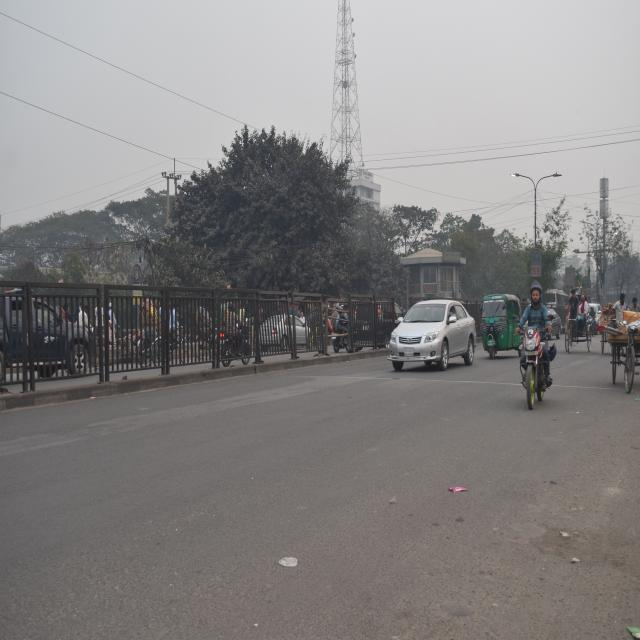car: (387, 296, 477, 368), (264, 311, 311, 350), (548, 308, 564, 335)
motorbike: (508, 329, 552, 419), (585, 314, 598, 334)
